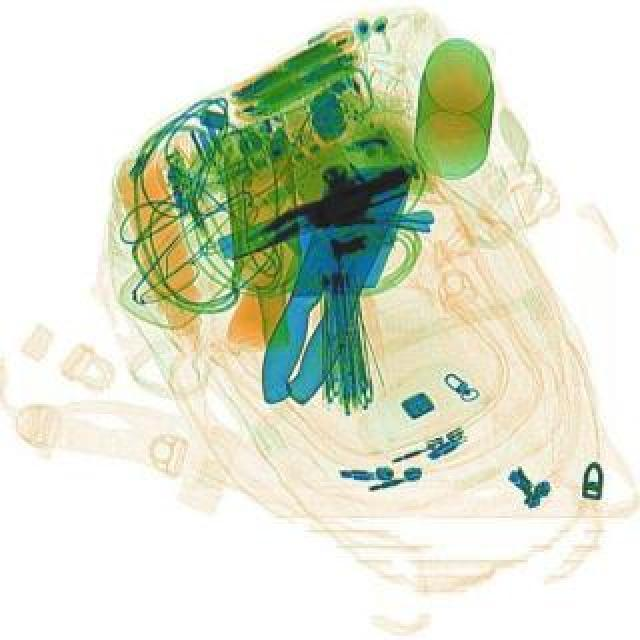knife: (242, 140, 420, 408), (250, 146, 418, 420)
